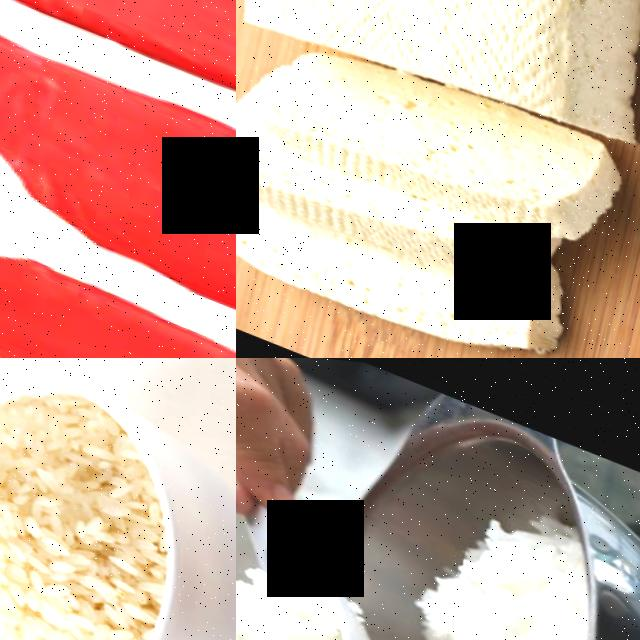tofu: (239, 11, 621, 262), (236, 132, 578, 358), (236, 0, 640, 154)
tuna: (0, 0, 236, 153)
white rice: (0, 358, 214, 640), (398, 493, 613, 640), (236, 546, 376, 640)
